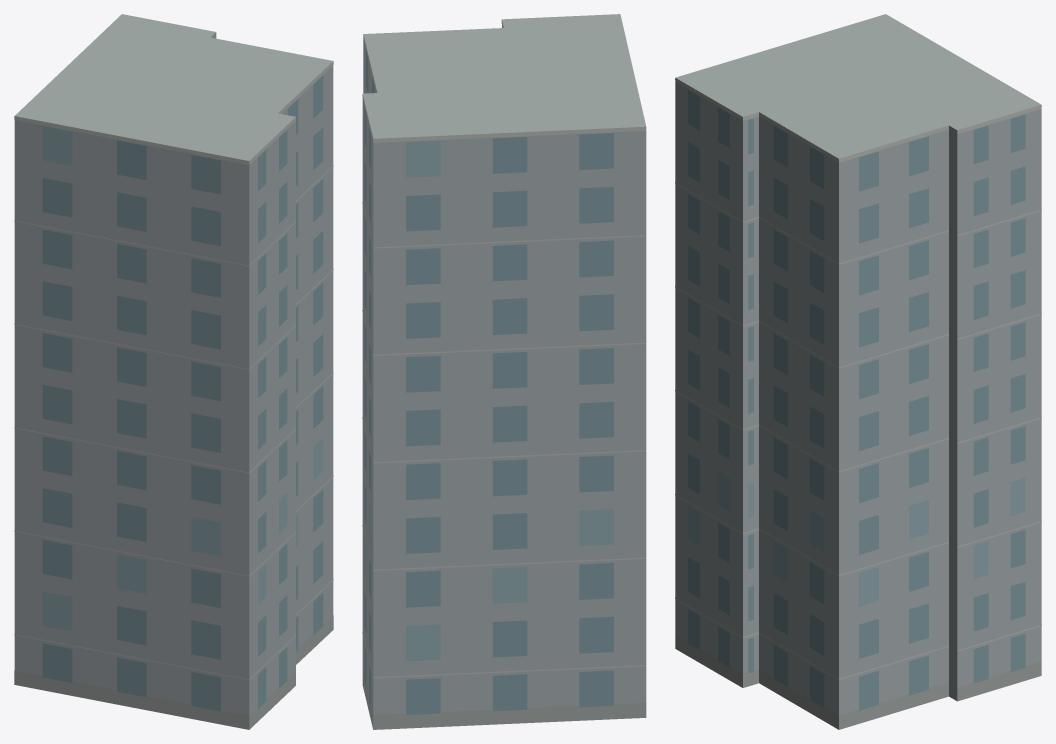
Rendered from survey-upis-32999710.glb.
3 views of the same model, side by side, from view 1: azimuth 30°, elevation 25°; view 2: azimuth 150°, elevation 25°; view 3: azimuth 270°, elevation 25° (orthographic). The views are drawn at different scales.
Visible parts, largest first — view 1: survey-upis-32999710.tmp; view 2: survey-upis-32999710.tmp; view 3: survey-upis-32999710.tmp.
Part boxes in pixels (box(x1,y1,x2,y2)): survey-upis-32999710.tmp: box(14, 14, 333, 729); survey-upis-32999710.tmp: box(362, 14, 646, 729); survey-upis-32999710.tmp: box(675, 14, 1041, 729).
Size of the model in its own units: 19.11 by 35.1 by 20.44.
